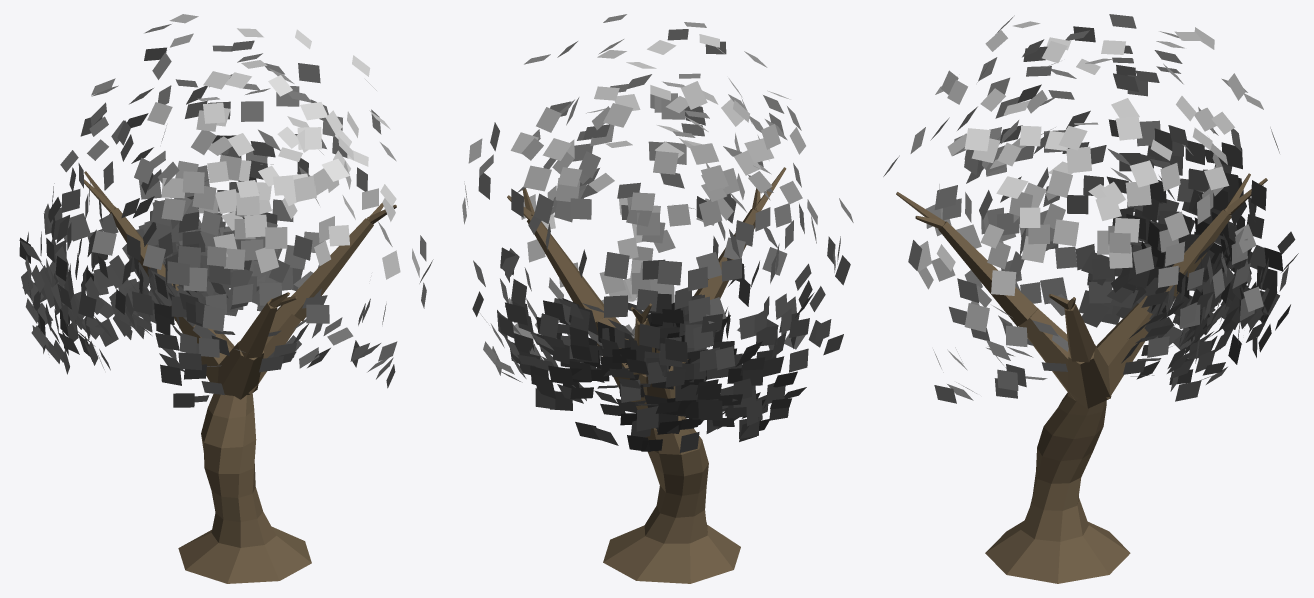
Rendered from pequi.glb.
The picture shows the model from 3 angles, left to right: view 1: azimuth 30°, elevation 25°; view 2: azimuth 150°, elevation 25°; view 3: azimuth 270°, elevation 25°; orthographic projection. The views are drawn at different scales.
Visible parts, largest first — view 1: cerrado_pequi_adulta_folhagem_LOD0, cerrado_pequi_adulta_tronco_LOD0; view 2: cerrado_pequi_adulta_folhagem_LOD0, cerrado_pequi_adulta_tronco_LOD0; view 3: cerrado_pequi_adulta_folhagem_LOD0, cerrado_pequi_adulta_tronco_LOD0.
Boxes of the visible parts, left/top/right/bottom form: cerrado_pequi_adulta_folhagem_LOD0: left=19, top=14, right=433, bottom=407; cerrado_pequi_adulta_tronco_LOD0: left=84, top=171, right=396, bottom=583; cerrado_pequi_adulta_folhagem_LOD0: left=462, top=14, right=853, bottom=452; cerrado_pequi_adulta_tronco_LOD0: left=507, top=167, right=786, bottom=583; cerrado_pequi_adulta_folhagem_LOD0: left=883, top=14, right=1298, bottom=403; cerrado_pequi_adulta_tronco_LOD0: left=896, top=173, right=1267, bottom=583.
Size of what is drawn, in the model's own units: 5.48 by 7.84 by 5.53.
